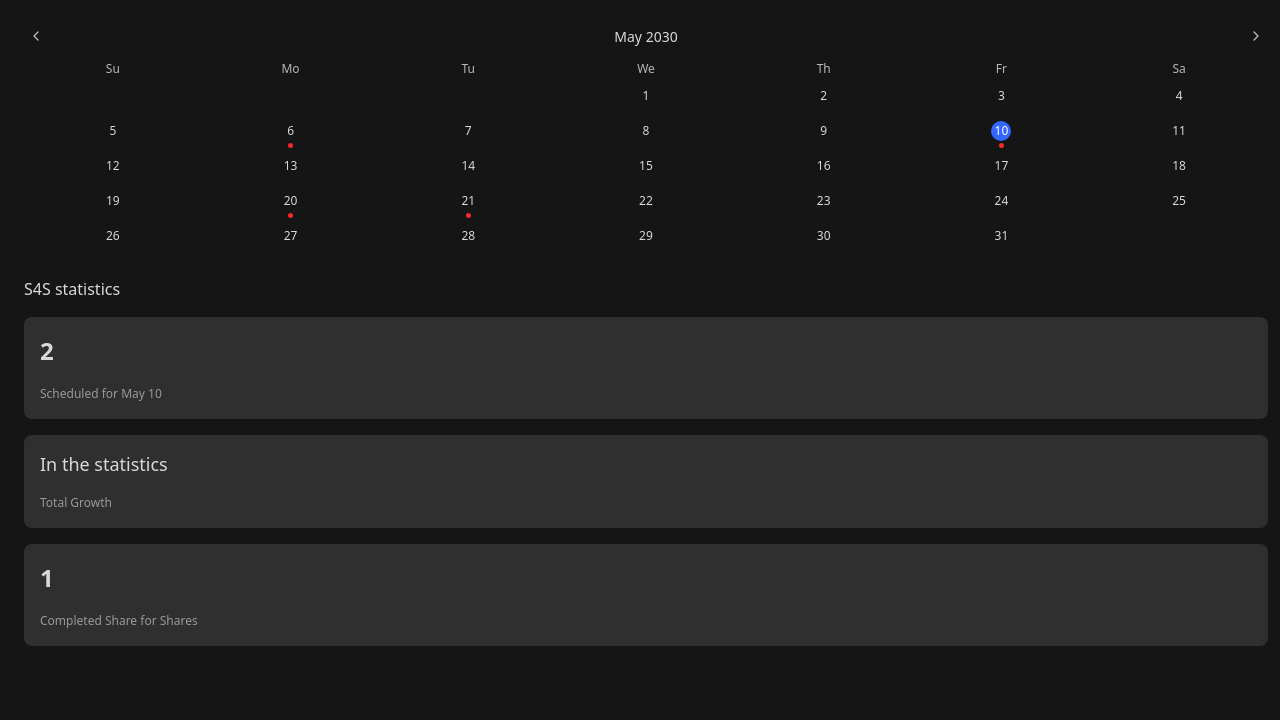
Test: S4SSchedule › moves by UTC month with the arrows
Click the button named "Next month" at (1256, 36), box [1244,24,1268,48]
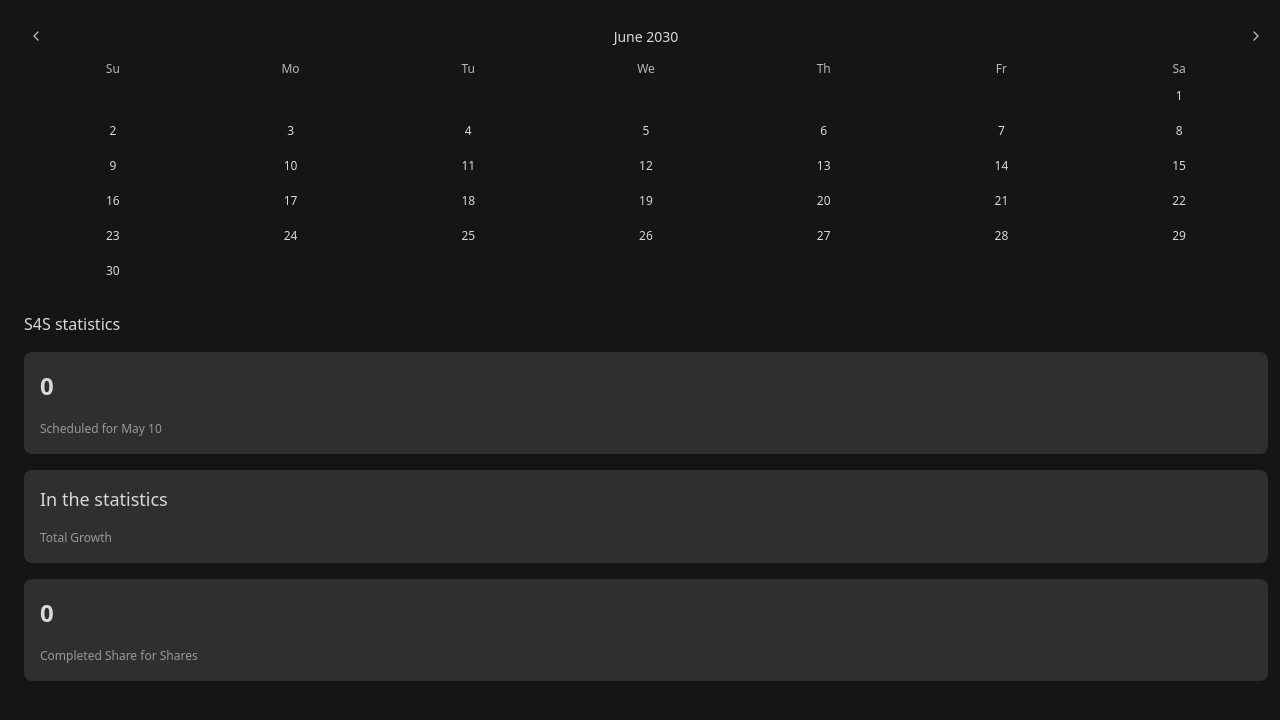
Check: the table named "June 2030" is shown, box [24,60,1268,288]
Click the button named "Previous month" at (36, 36), box [24,24,48,48]
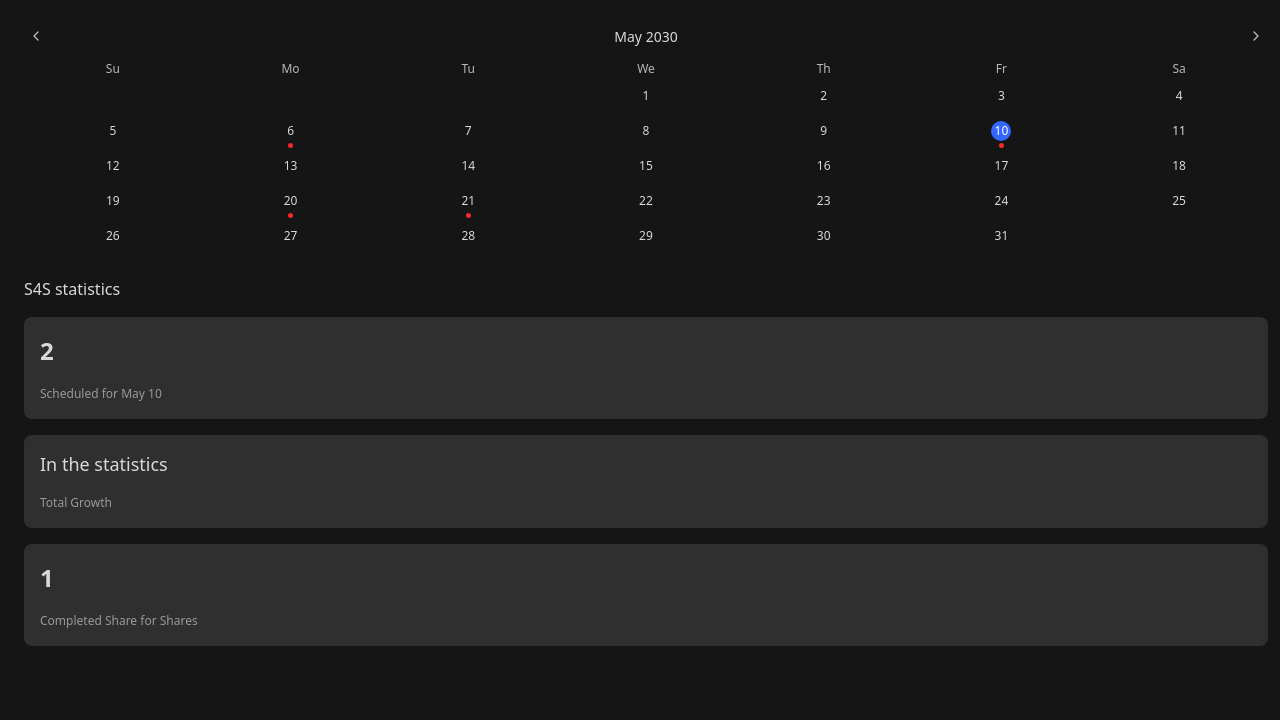
Check: the table named "May 2030" is shown, box [24,60,1268,253]
